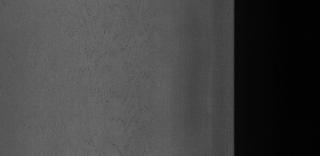silk spot: (74, 14, 160, 144)
